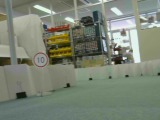speed_10: (32, 52, 49, 68)
